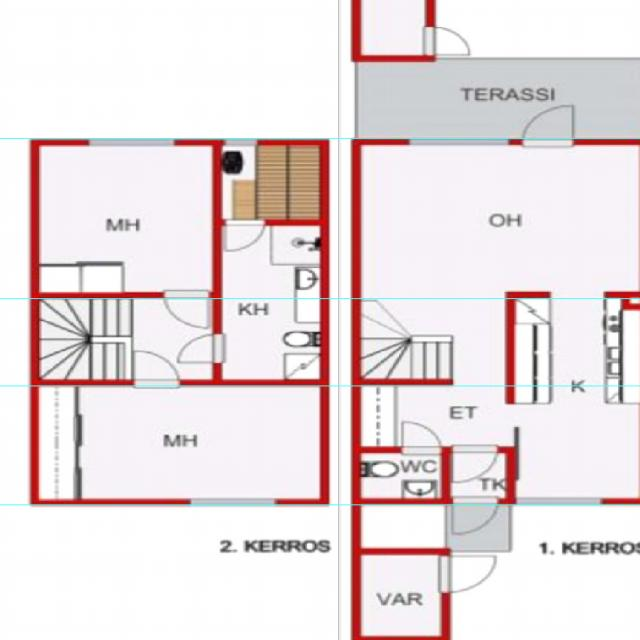door: (523, 96, 575, 145), (452, 497, 498, 542), (121, 416, 175, 454), (454, 409, 498, 453), (165, 294, 210, 337), (442, 558, 494, 592), (138, 378, 179, 419), (224, 218, 264, 258), (402, 415, 439, 453), (181, 336, 222, 362)
